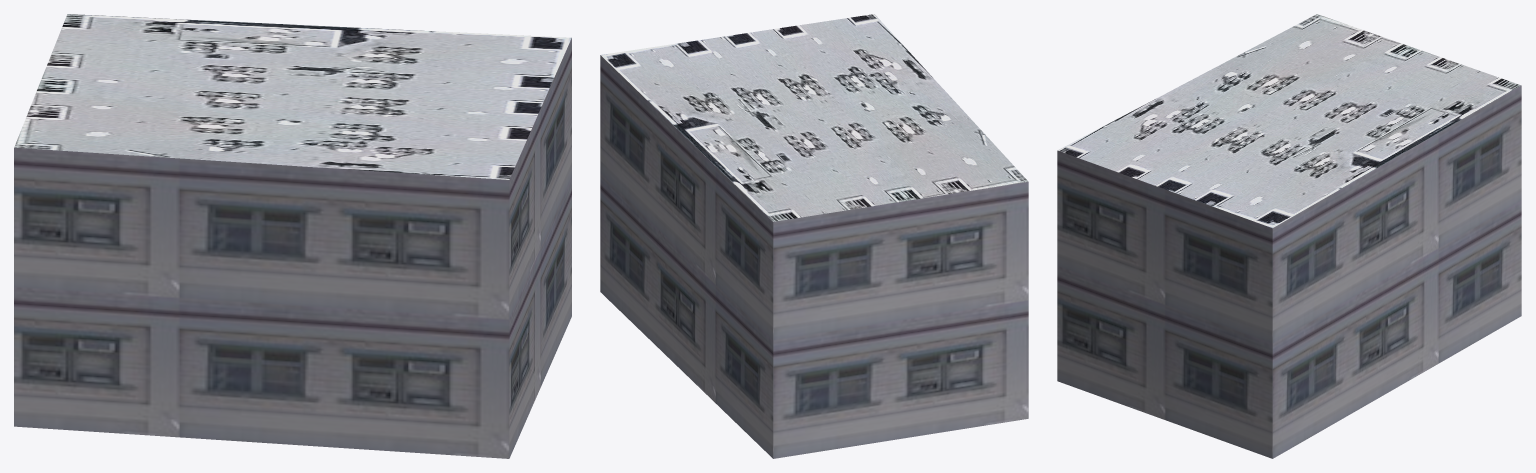
Rendered from ResTex__4434.fbx.
3 renders of one model, left to right at view 1: azimuth 30°, elevation 25°; view 2: azimuth 150°, elevation 25°; view 3: azimuth 270°, elevation 25°, orthographic. The views are drawn at different scales.
Visible parts, largest first — view 1: CityEngineMaterial_1_m, CityEngineMaterial_4_m; view 2: CityEngineMaterial_1_m, CityEngineMaterial_4_m; view 3: CityEngineMaterial_1_m, CityEngineMaterial_4_m.
Part boxes in pixels (x1,y1,x2,y2): CityEngineMaterial_1_m: [14, 38, 571, 458]; CityEngineMaterial_4_m: [14, 14, 571, 179]; CityEngineMaterial_1_m: [600, 55, 1028, 458]; CityEngineMaterial_4_m: [601, 14, 1027, 221]; CityEngineMaterial_1_m: [1057, 85, 1521, 458]; CityEngineMaterial_4_m: [1057, 14, 1520, 228].
Size of the model in its own units: 11.95 by 6 by 10.94.
2 materials, 2 textured.
